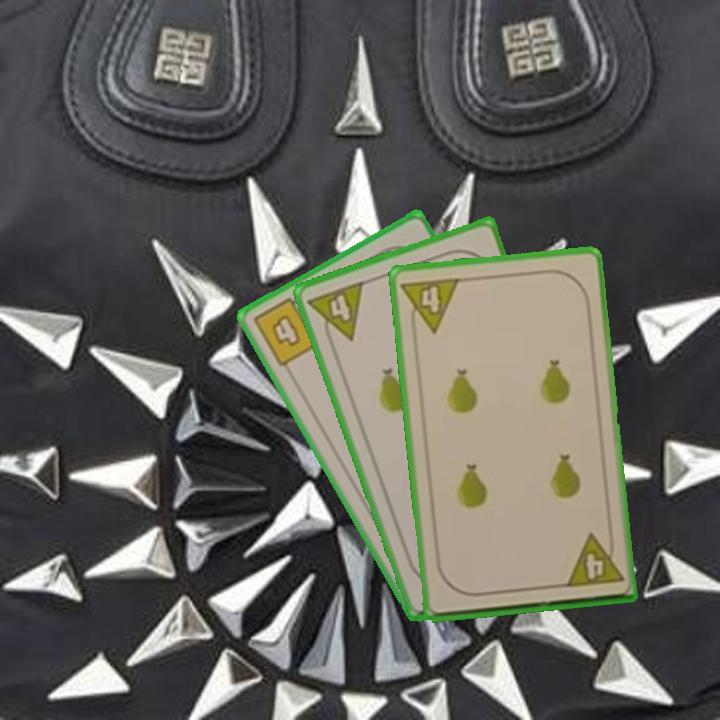4b: (249, 291, 321, 370)
4p: (304, 277, 367, 350), (398, 274, 463, 337), (561, 529, 626, 591)
